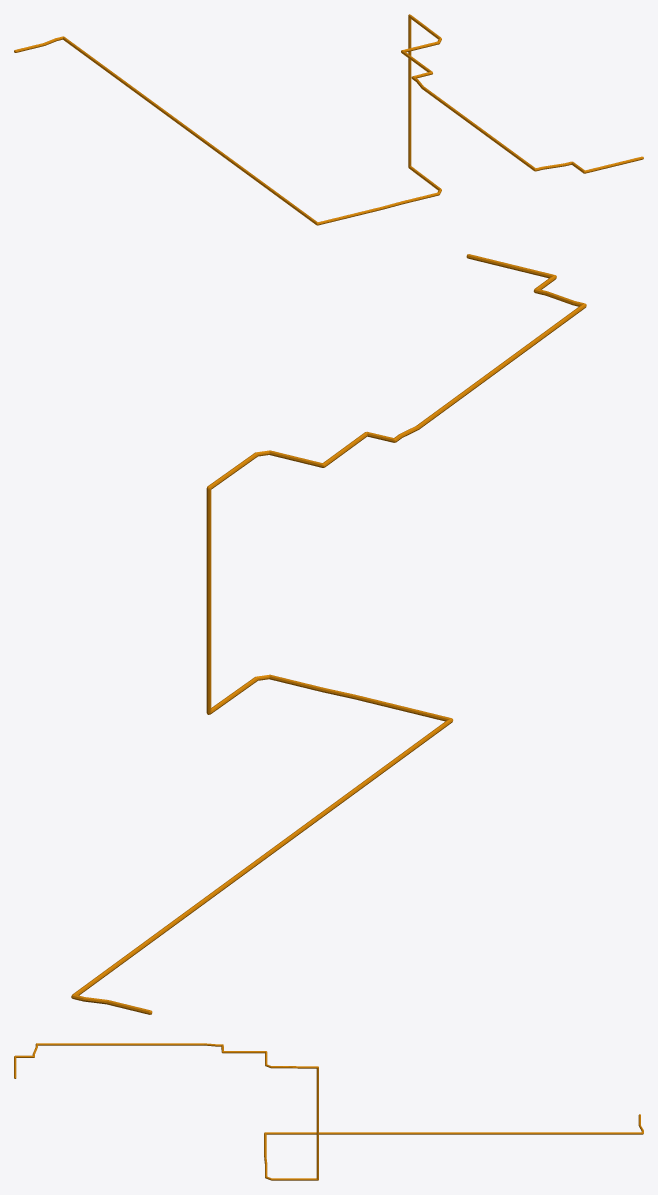
The picture shows the model from 3 angles, top to bottom: view 1: azimuth 30°, elevation 25°; view 2: azimuth 150°, elevation 25°; view 3: azimuth 270°, elevation 25°; orthographic projection. The views are drawn at different scales.
Size of the model in its own units: 1448 by 1020 by 5091.
